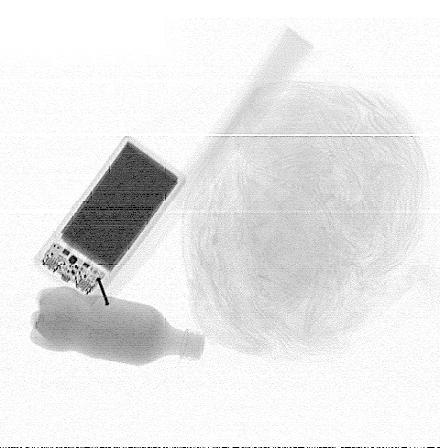Powerbank: (35, 134, 186, 303)
